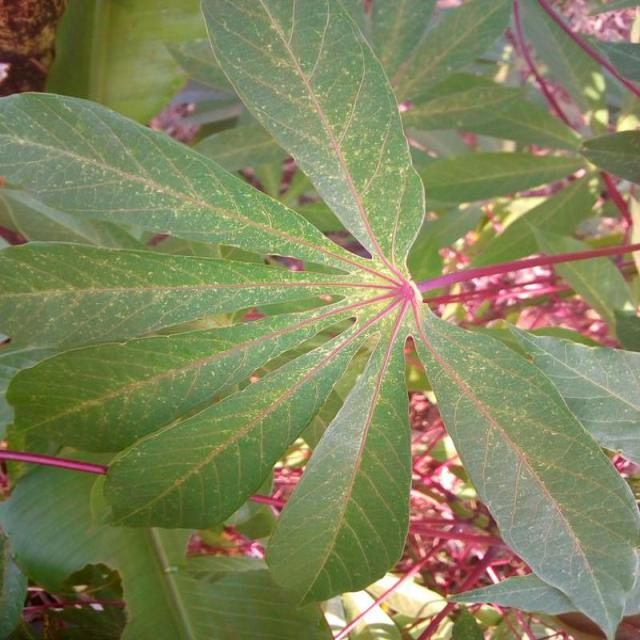cassava leaf: (1, 0, 638, 637), (408, 299, 638, 638), (198, 0, 426, 273)
